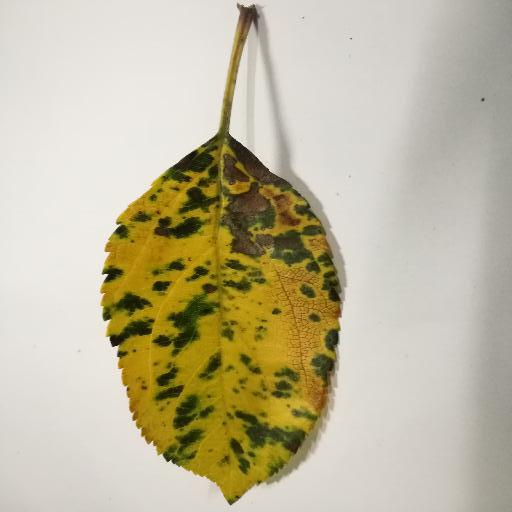Brown_Spot: (227, 149, 319, 267)
